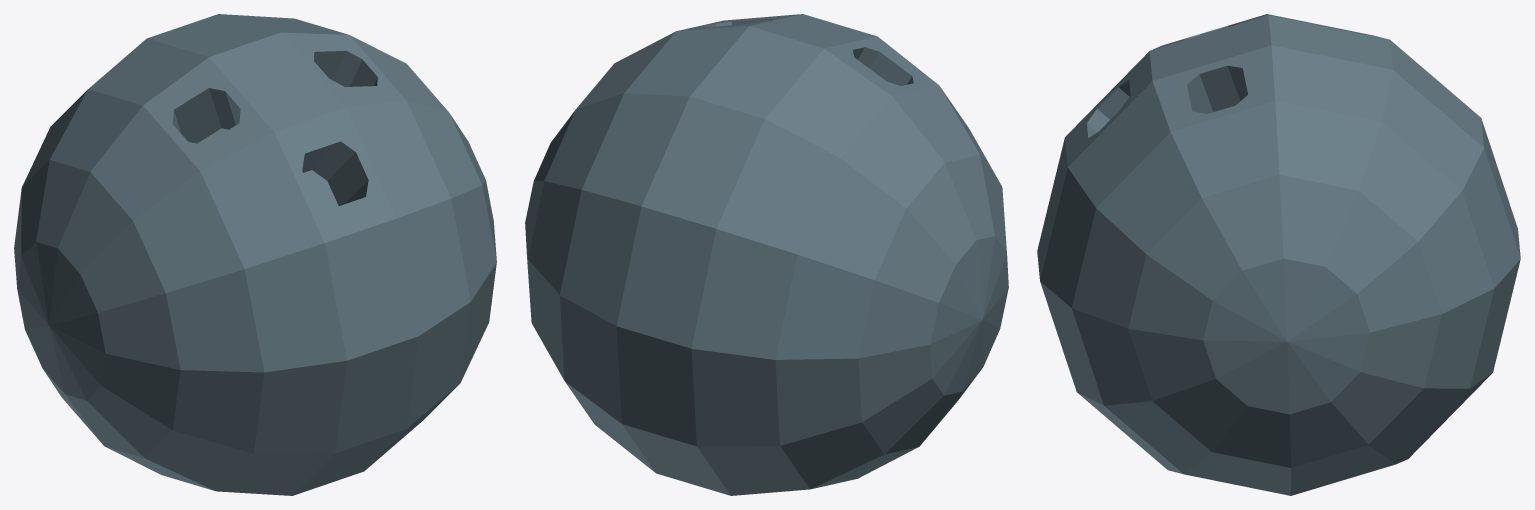
File: ball.gltf
The picture shows the model from 3 angles, left to right: view 1: azimuth 30°, elevation 25°; view 2: azimuth 150°, elevation 25°; view 3: azimuth 270°, elevation 25°; orthographic projection.
Parts seen in each view (by area): view 1: node_MeshObject-304903680-PolyPaper16; view 2: node_MeshObject-304903680-PolyPaper16; view 3: node_MeshObject-304903680-PolyPaper16.
Part boxes in pixels (x1,y1,x2,y2): node_MeshObject-304903680-PolyPaper16: (14,14,496,495); node_MeshObject-304903680-PolyPaper16: (525,14,1008,495); node_MeshObject-304903680-PolyPaper16: (1037,14,1520,495).
Bounding box in the file's own units: 0.7874 × 0.7855 × 0.7816.
